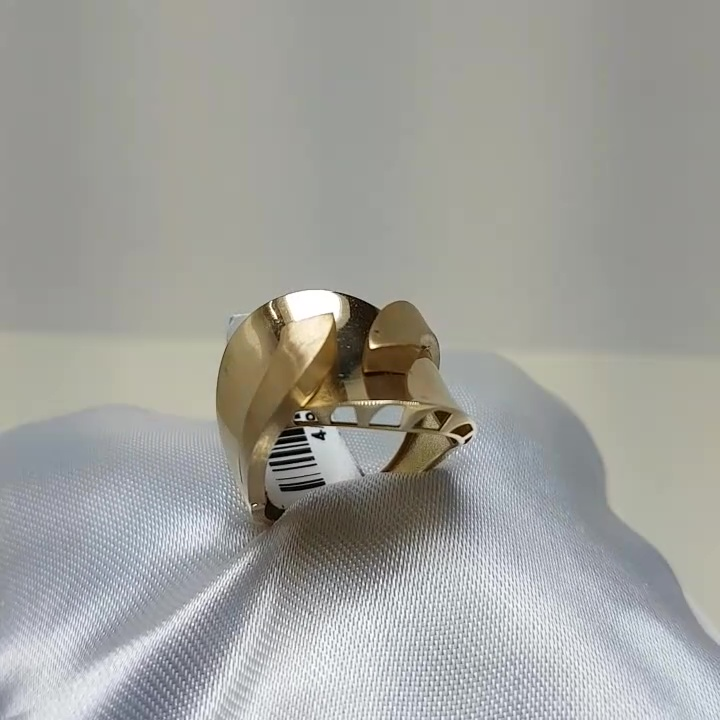Ring 4: (202, 276, 481, 534)
